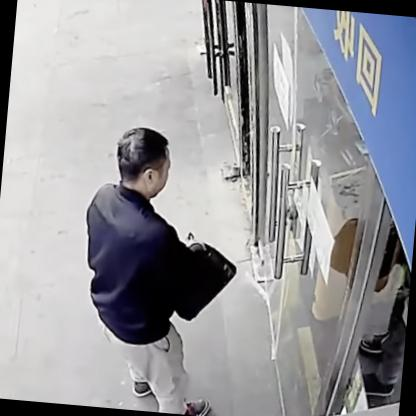Human Body: (63, 119, 256, 415)
